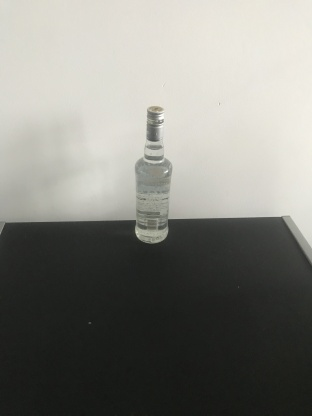nakretka: (145, 104, 165, 142)
